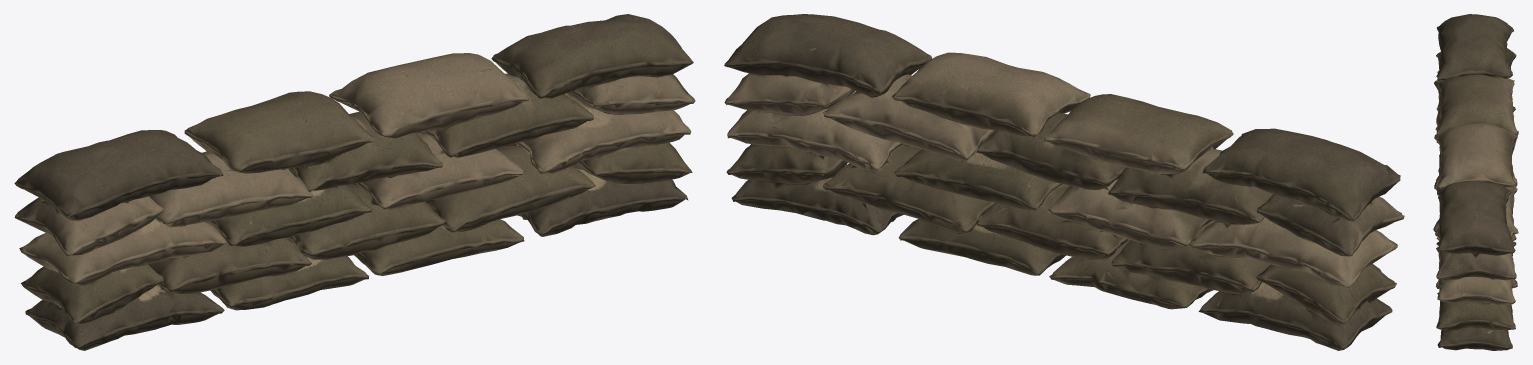
The model's file is sacs.glb.
3 renders of one model, left to right at view 1: azimuth 30°, elevation 25°; view 2: azimuth 150°, elevation 25°; view 3: azimuth 270°, elevation 25°, orthographic. The views are drawn at different scales.
Size of the model in its own units: 1.9 by 0.5192 by 0.3048.
1 material, 1 textured.
